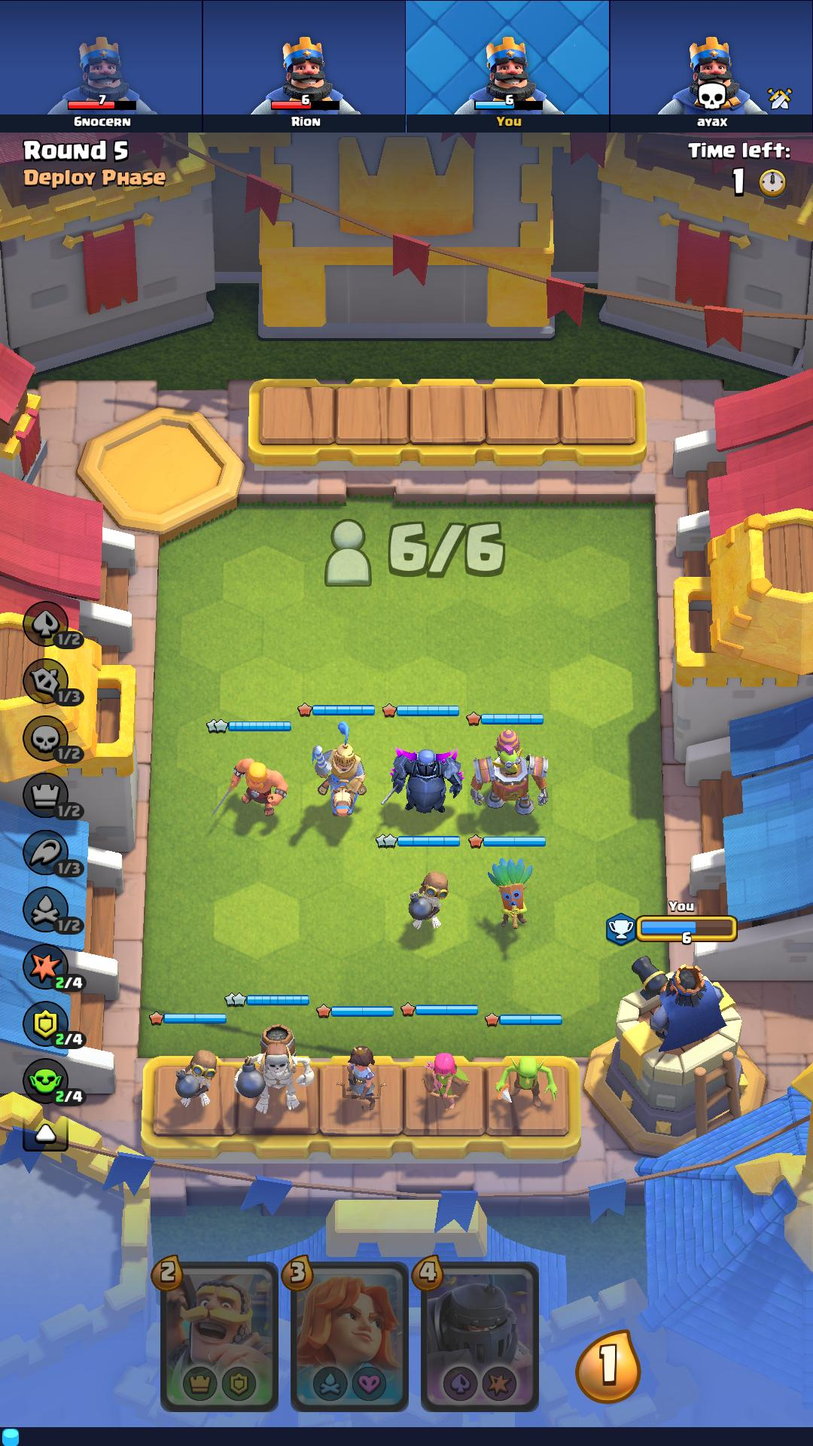archer: (417, 1048, 467, 1107)
barbarian: (209, 751, 291, 821)
bomber: (392, 857, 455, 934), (162, 1052, 222, 1108)
dart: (476, 856, 537, 929)
giant: (232, 1022, 316, 1118)
goblin: (488, 1044, 563, 1124)
hand-knight: (162, 1263, 275, 1407)
hand-mega: (421, 1265, 537, 1408)
hand-valkyrie: (292, 1263, 405, 1410)
machine: (467, 728, 551, 816)
pekka: (377, 740, 463, 813)
prince: (305, 720, 370, 824)
princess: (330, 1040, 386, 1113)
